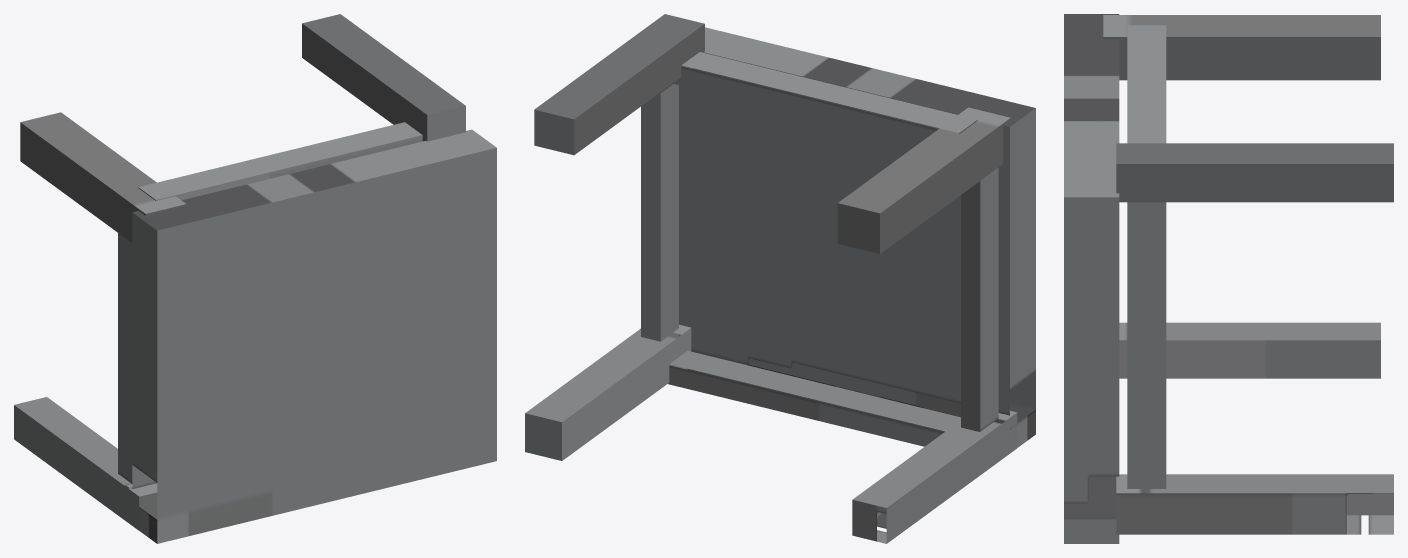
3 views of the same model, side by side, from view 1: azimuth 30°, elevation 25°; view 2: azimuth 150°, elevation 25°; view 3: azimuth 270°, elevation 25° (orthographic). The views are drawn at different scales.
Bounding box in the file's own units: 1 × 0.957 × 0.7607.
